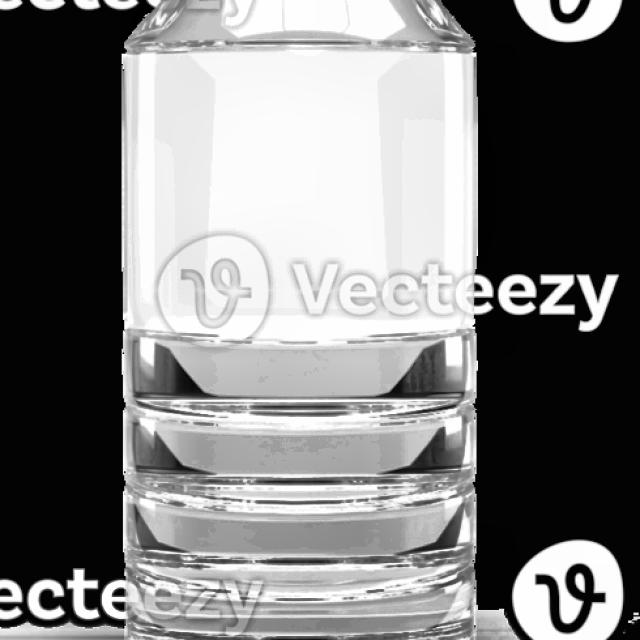bottle: (122, 0, 478, 640)
